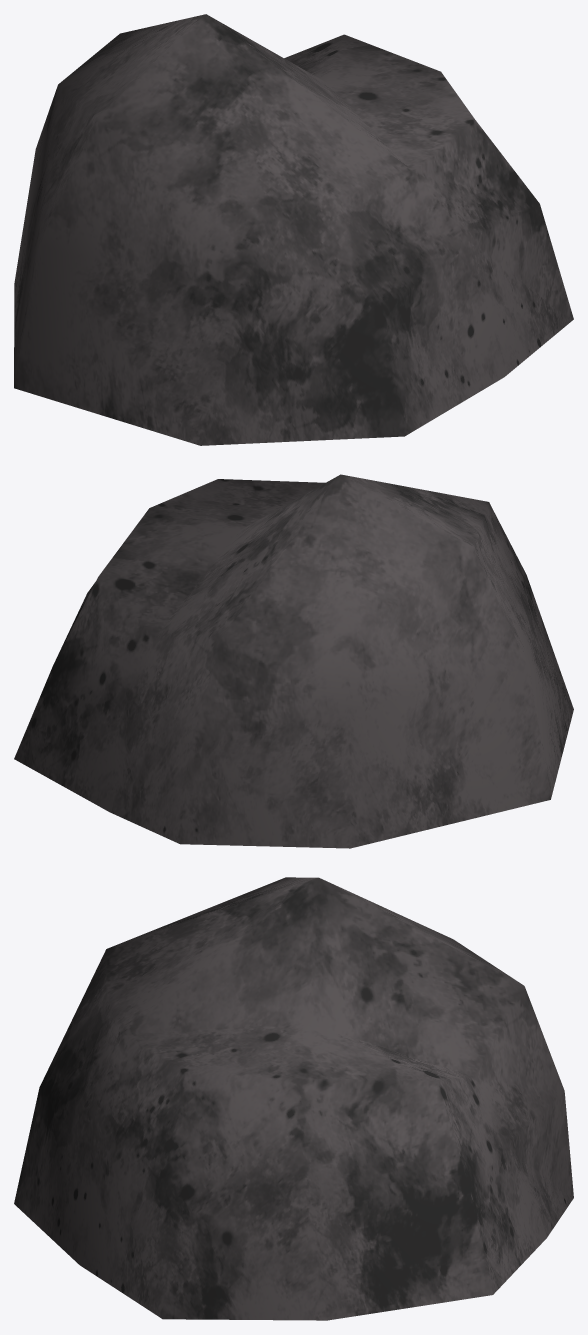
The model's file is rock02.glb.
The picture shows the model from 3 angles, top to bottom: view 1: azimuth 30°, elevation 25°; view 2: azimuth 150°, elevation 25°; view 3: azimuth 270°, elevation 25°; orthographic projection. The views are drawn at different scales.
Visible parts, largest first — view 1: Cube; view 2: Cube; view 3: Cube.
Part boxes in pixels (box(x1,y1,x2,y2)): Cube: box(14, 14, 573, 445); Cube: box(14, 474, 573, 848); Cube: box(14, 877, 573, 1320).
Bounding box in the file's own units: 4 × 2.37 × 3.91.
1 material, 1 textured.
